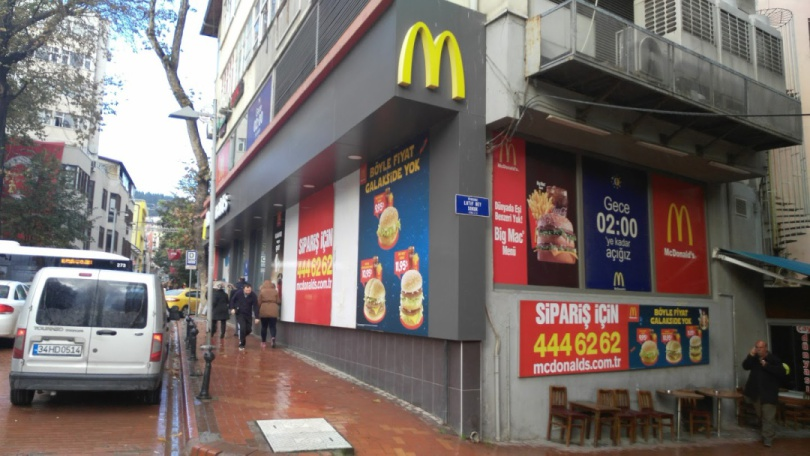mcdonalds: (395, 21, 479, 103), (659, 199, 701, 250)
